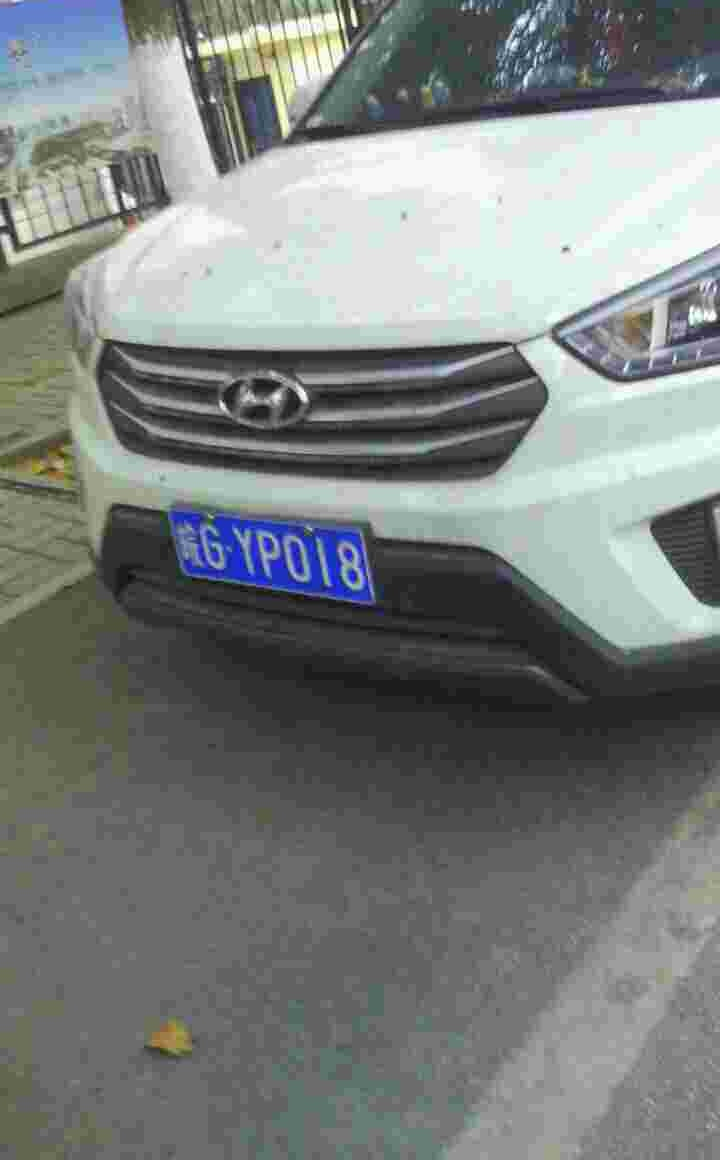license_plate: (161, 502, 391, 606)
